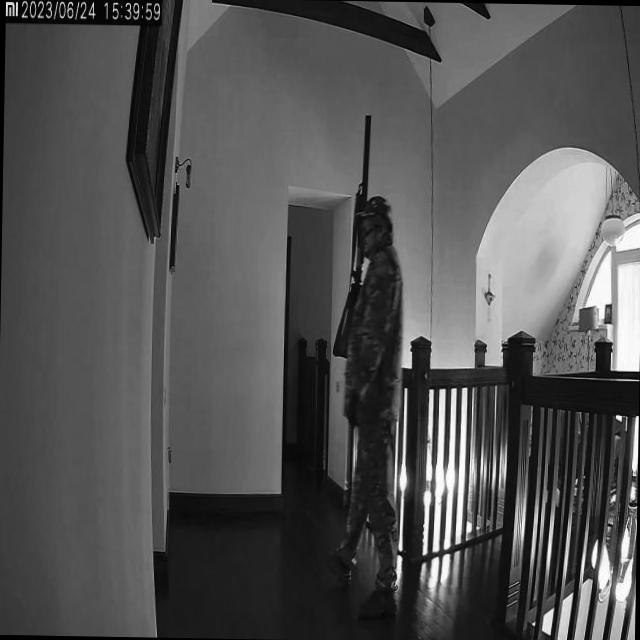gun: (333, 112, 372, 356)
person with a gun: (327, 111, 408, 618)
